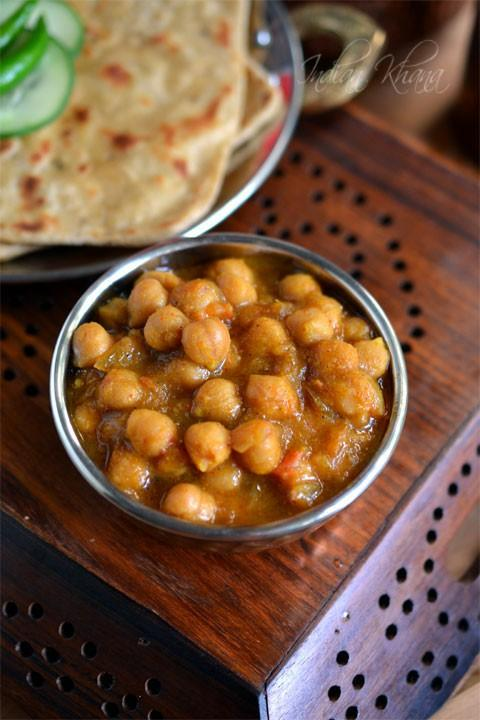Chole: (73, 257, 389, 530)
